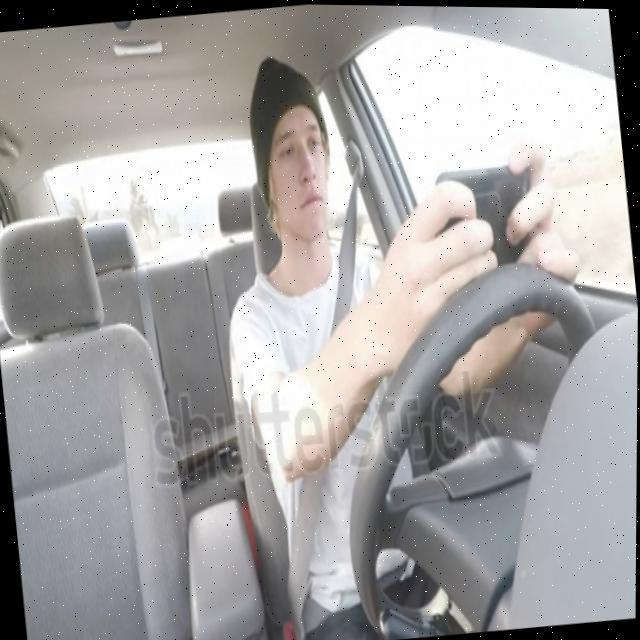PhoneCall: (426, 154, 540, 272)
